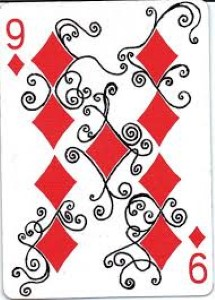NineOfDiamonds: (1, 1, 214, 299)
